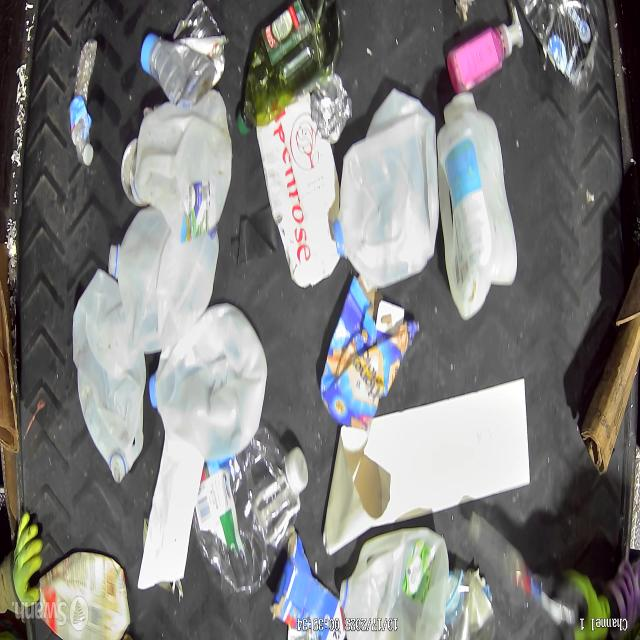milk_jug: (335, 88, 438, 291), (146, 306, 266, 462), (438, 91, 517, 319), (113, 205, 217, 357), (72, 267, 146, 474), (132, 95, 232, 238), (338, 526, 449, 638)
non_white_jug: (194, 426, 308, 598), (39, 550, 131, 640)
plastic_bottle: (73, 39, 98, 166)
